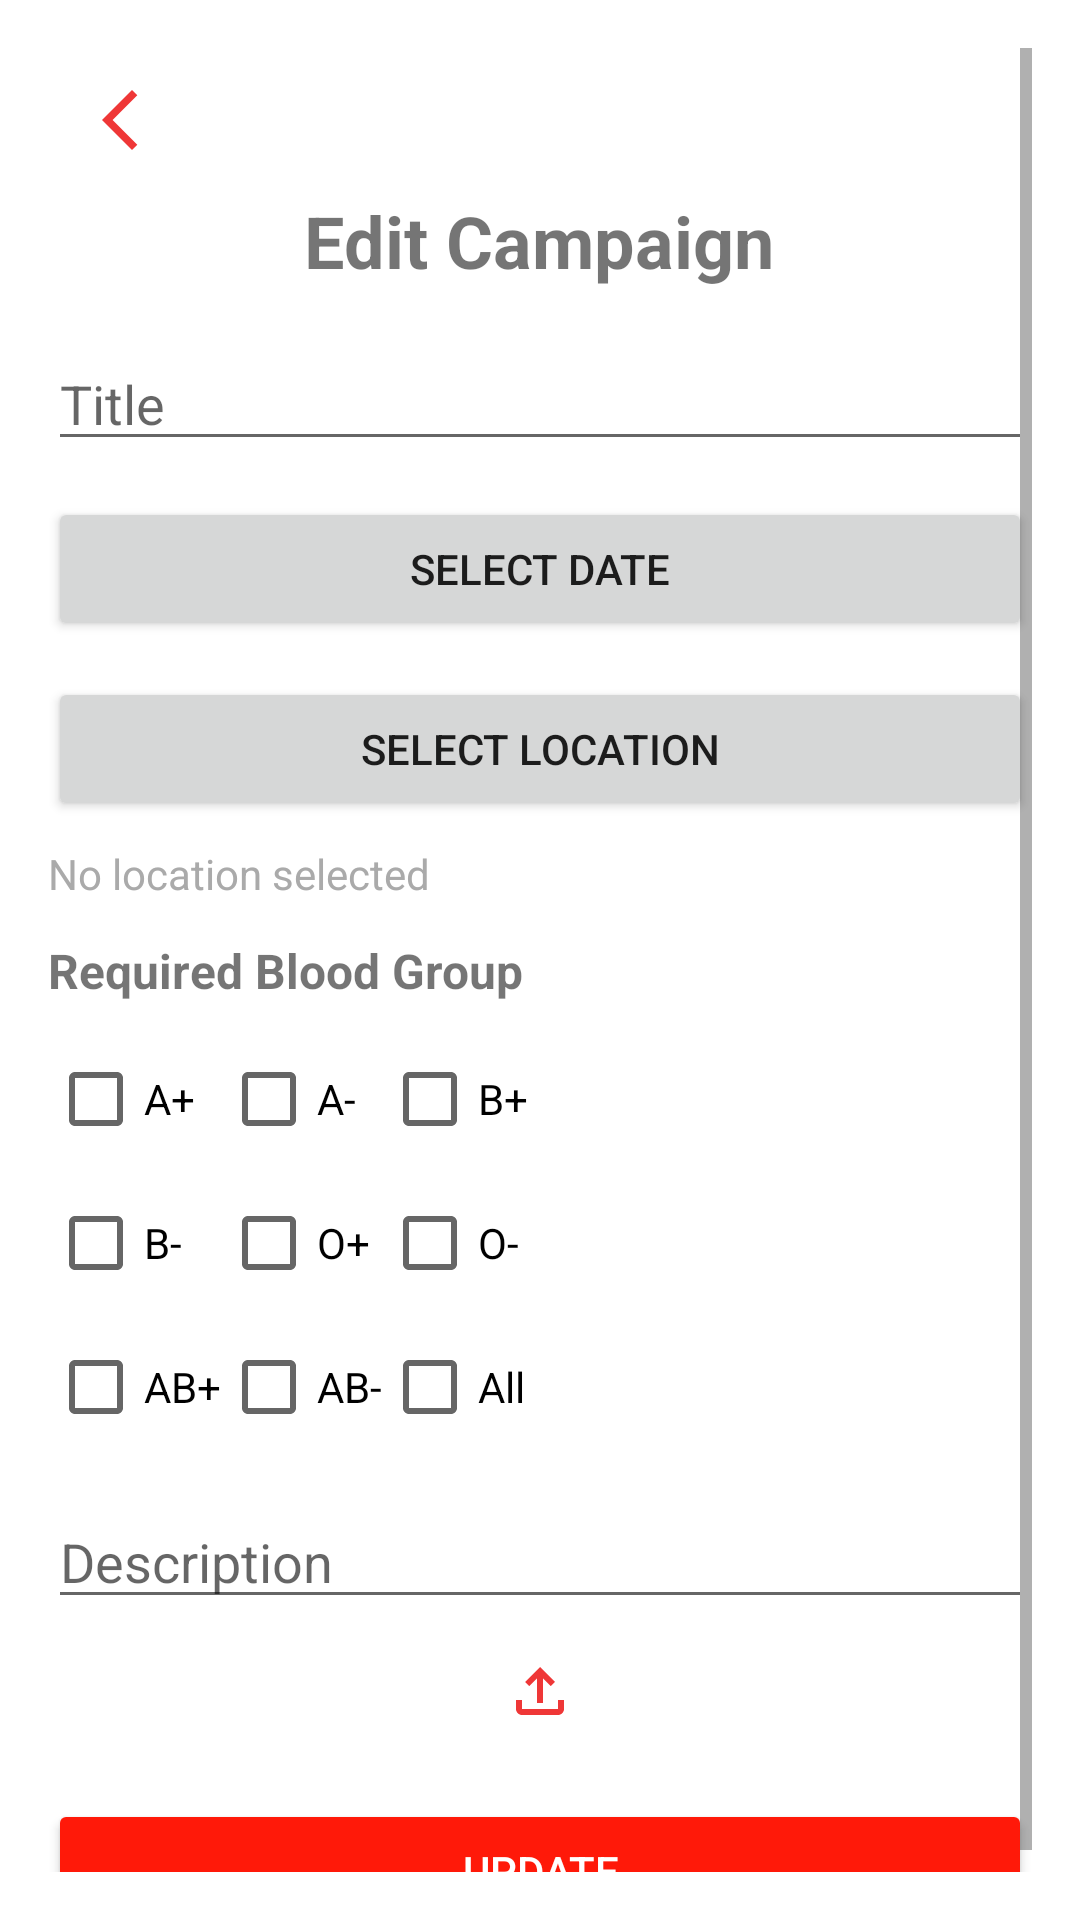

Where icons sit on this 1080 × 1920 app screen, as (x1, y1, x2, y2):
Back: (102, 90, 137, 150)
